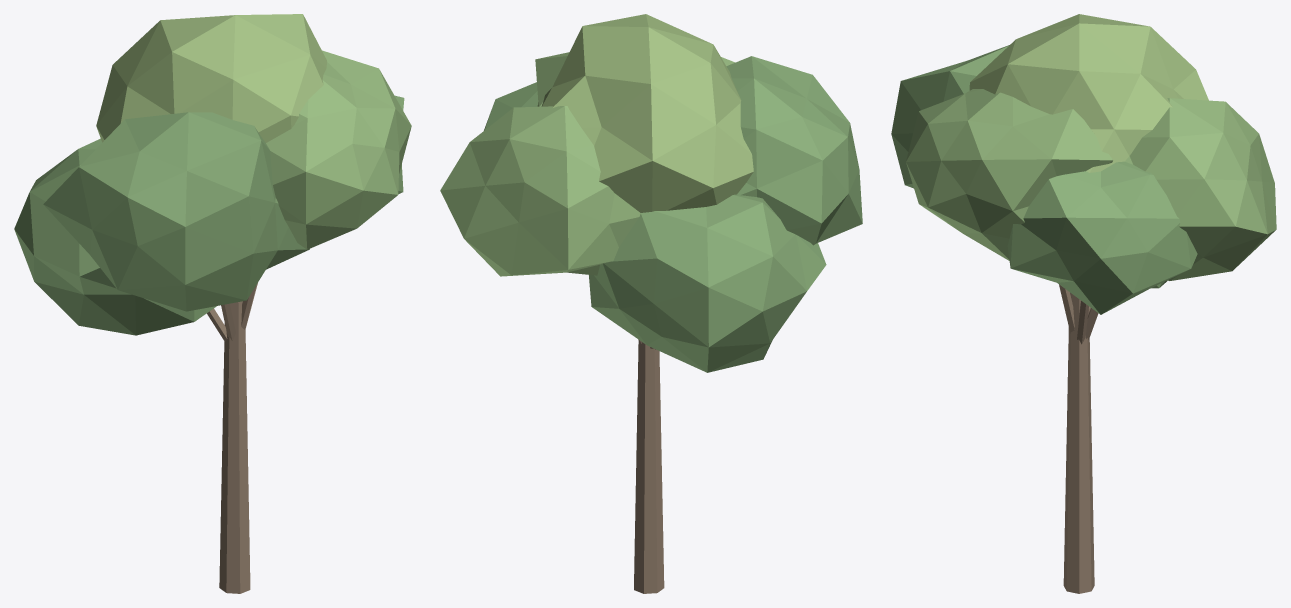
The model's file is node_tree_grassland_0.glb.
3 renders of one model, left to right at view 1: azimuth 30°, elevation 25°; view 2: azimuth 150°, elevation 25°; view 3: azimuth 270°, elevation 25°, orthographic. The views are drawn at different scales.
Visible parts, largest first — view 1: node_tree_grassland_0; view 2: node_tree_grassland_0; view 3: node_tree_grassland_0.
Part boxes in pixels (x1,y1,x2,y2): node_tree_grassland_0: (14, 14, 411, 593); node_tree_grassland_0: (440, 14, 862, 593); node_tree_grassland_0: (891, 14, 1276, 593).
Bounding box in the file's own units: 5 × 7.83 × 4.85.
